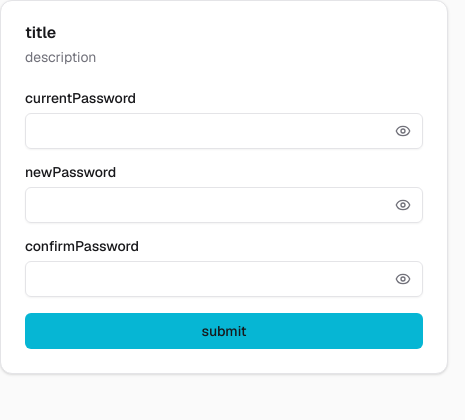
Scenario: ChangePasswordForm › rejects a new password equal to the current one
Type "samePass123" into the password field labelled "currentPassword".
click(224, 131); type("samePass123")  # box [25,113,423,149]
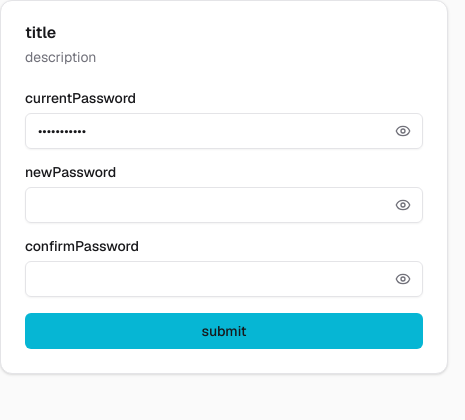
Type "samePass123" into the password field labelled "newPassword".
click(224, 205); type("samePass123")  # box [25,187,423,223]
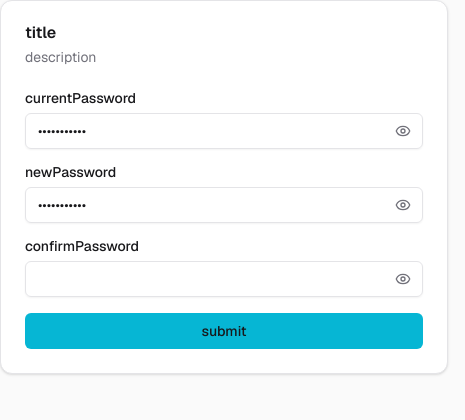
Type "samePass123" into the password field labelled "confirmPassword".
click(224, 279); type("samePass123")  # box [25,261,423,297]
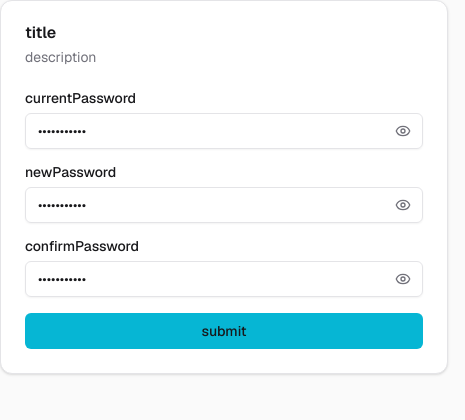
Click the button "submit".
click(224, 331)  # box [25,313,423,349]
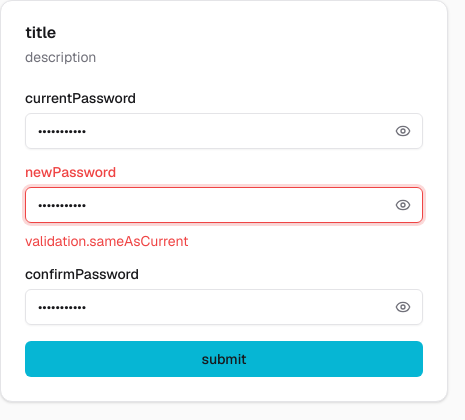
Expected: the text "validation.sameAsCurrent" is shown, [25,232,188,250]
